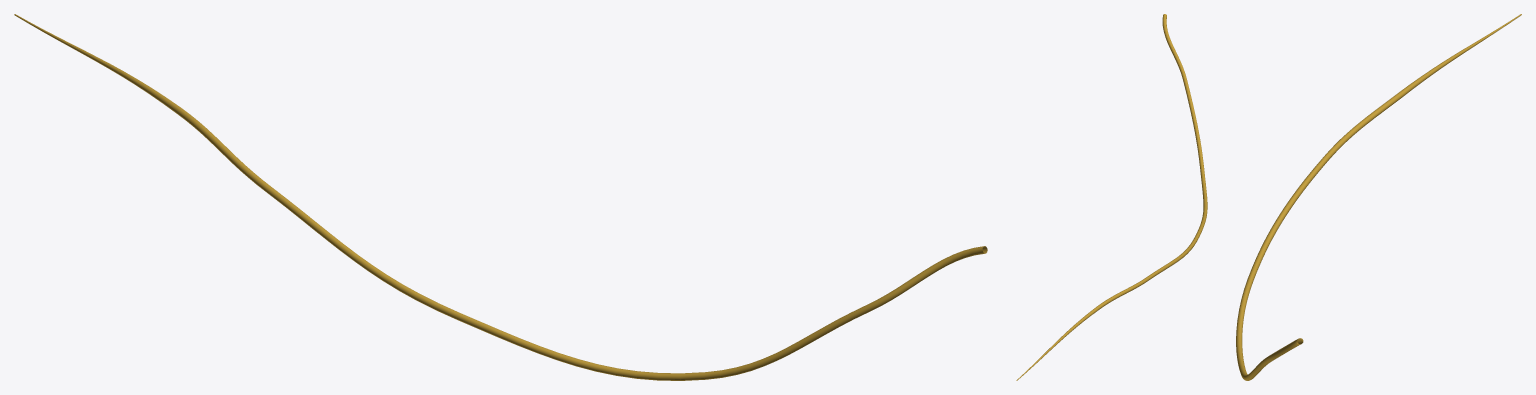
The picture shows the model from 3 angles, left to right: view 1: azimuth 30°, elevation 25°; view 2: azimuth 150°, elevation 25°; view 3: azimuth 330°, elevation 25°; orthographic projection. The views are drawn at different scales.
Visible parts, largest first — view 1: 右侧前臂外侧皮神经; view 2: 右侧前臂外侧皮神经; view 3: 右侧前臂外侧皮神经.
Boxes of the visible parts, box(x1,y1,x2,y2) form: 右侧前臂外侧皮神经: box(14, 14, 987, 380); 右侧前臂外侧皮神经: box(1016, 14, 1207, 380); 右侧前臂外侧皮神经: box(1236, 14, 1521, 380).
Bounding box in the file's own units: 0.0777 × 0.0387 × 0.2387.
